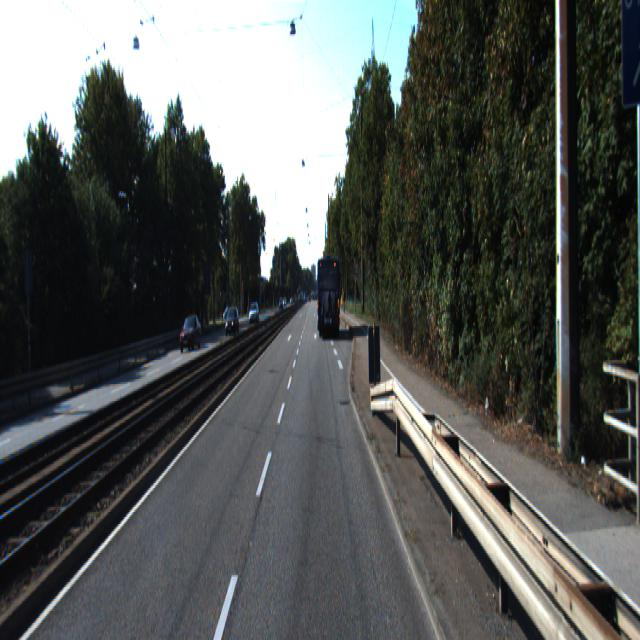Car: (318, 260, 340, 342), (178, 316, 202, 353)
